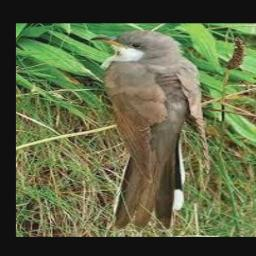Cuckoo: (90, 31, 204, 226)
